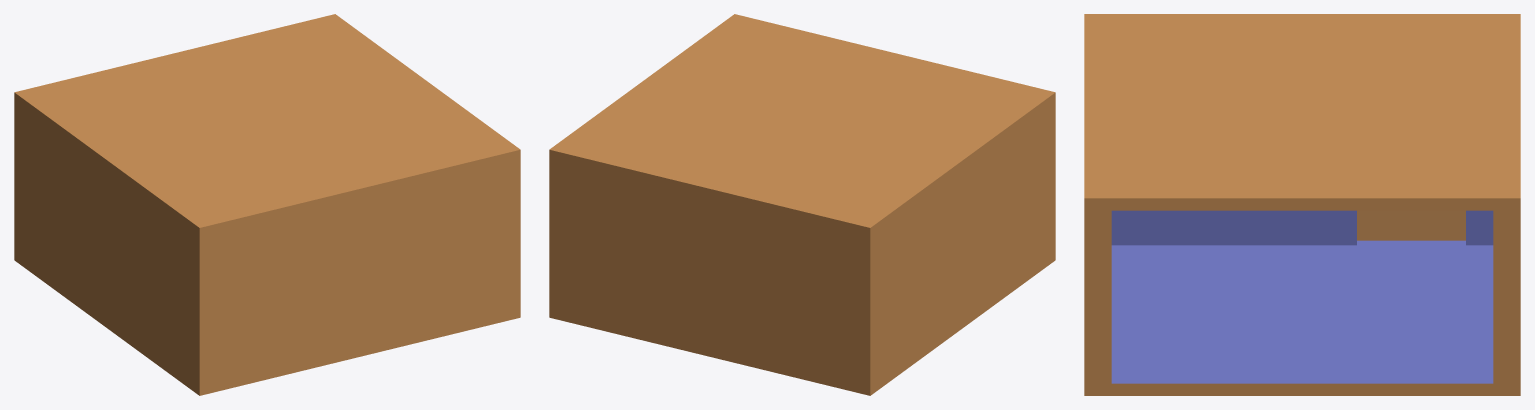
Rendered from Garage.fbx.
3 views of the same model, side by side, from view 1: azimuth 30°, elevation 25°; view 2: azimuth 150°, elevation 25°; view 3: azimuth 270°, elevation 25° (orthographic). The views are drawn at different scales.
Visible parts, largest first — view 1: Cube; view 2: Cube; view 3: Cube.
Part boxes in pixels (<box>): Cube: <box>14,14,520,395</box>; Cube: <box>549,14,1055,395</box>; Cube: <box>1084,14,1520,395</box>.
Size of the model in its own units: 800 by 400 by 800.
